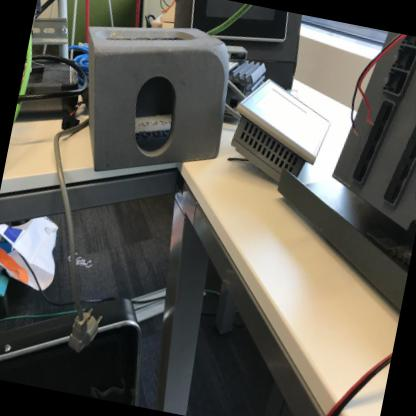CornerCasting: (57, 2, 244, 197)
